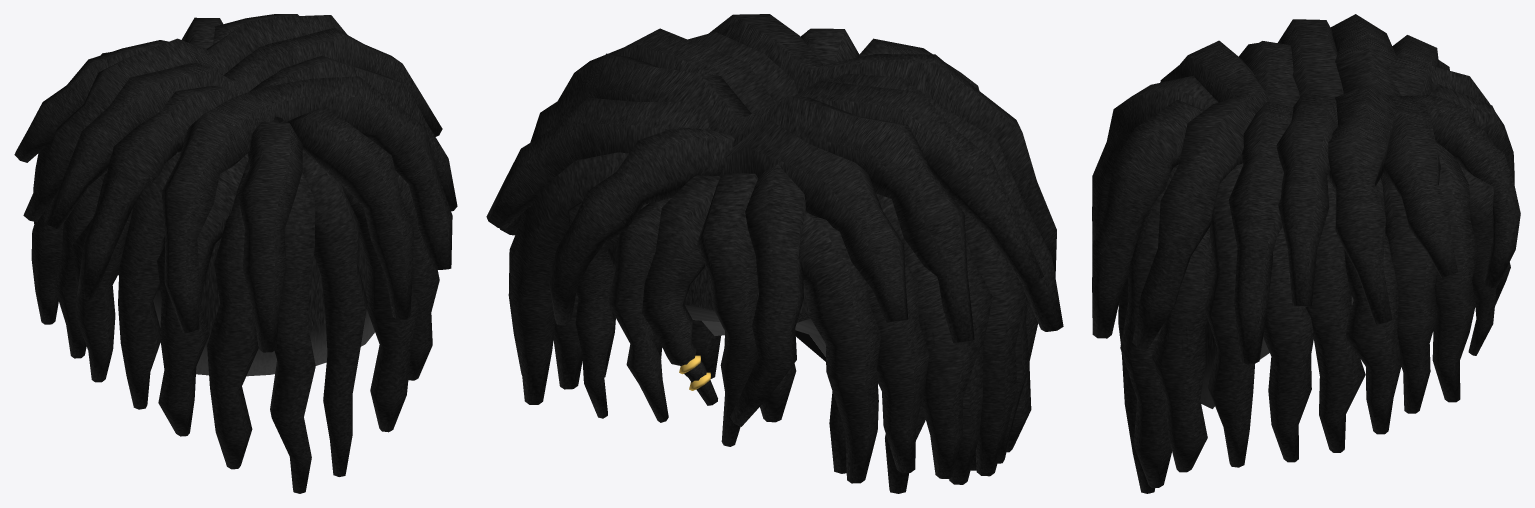
3 renders of one model, left to right at view 1: azimuth 30°, elevation 25°; view 2: azimuth 150°, elevation 25°; view 3: azimuth 270°, elevation 25°, orthographic. The views are drawn at different scales.
Visible parts, largest first — view 1: geometry_0; view 2: geometry_0; view 3: geometry_0.
Boxes of the visible parts, x1,y1,x2,y2 form: geometry_0: (14,14,457,493); geometry_0: (486,14,1063,493); geometry_0: (1092,14,1520,493).
Size of the model in its own units: 1.9 by 1.76 by 1.64.
1 material, 1 textured.
